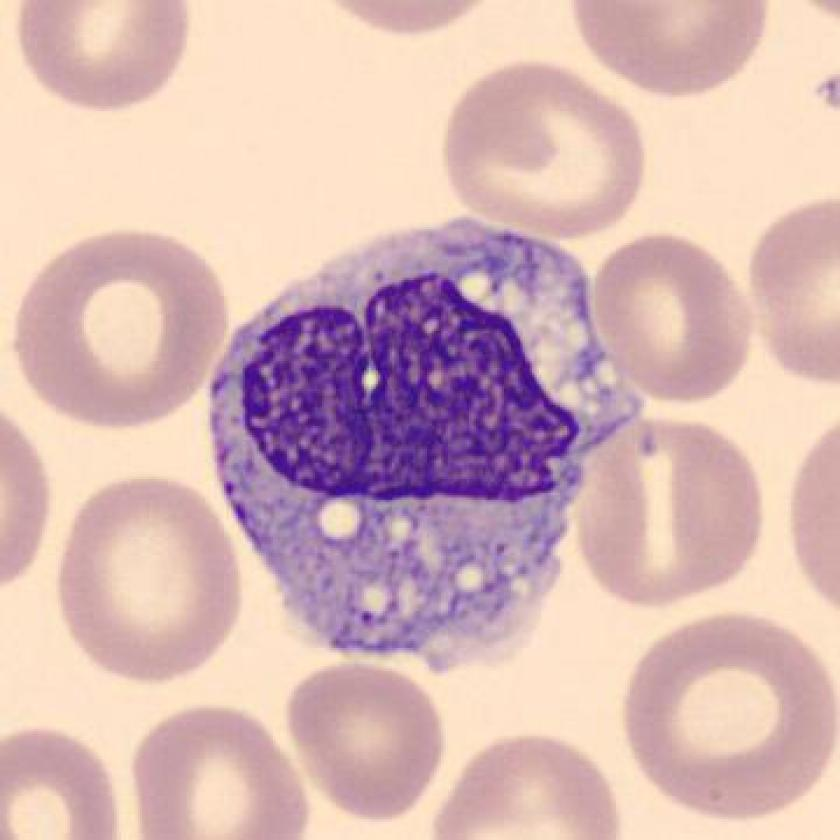monocyte: (192, 200, 659, 686)
